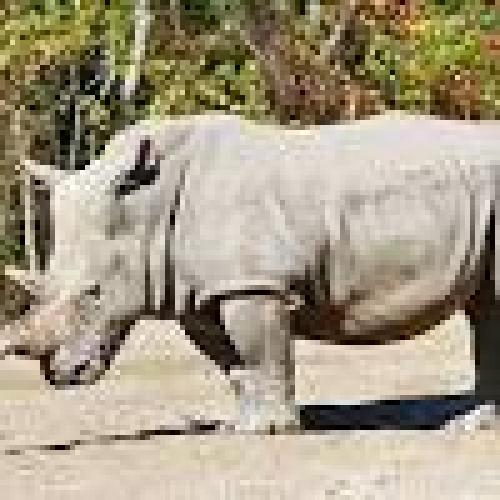rhino-endangered: (6, 111, 500, 438)
